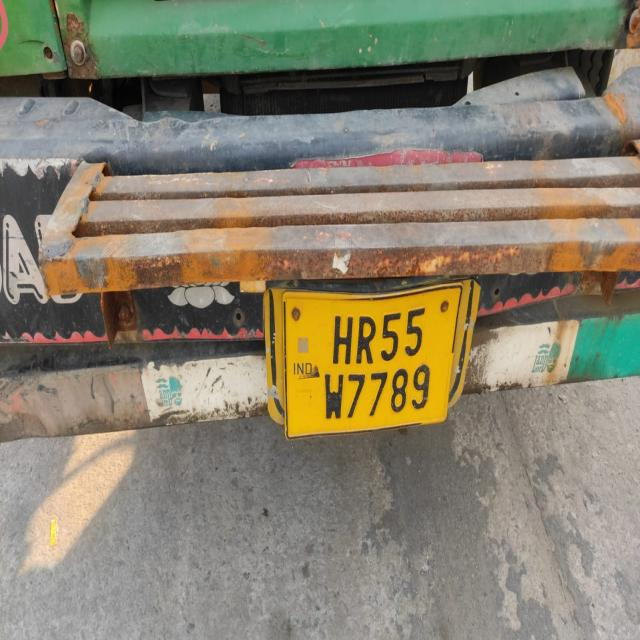License-plate: (286, 288, 446, 431)
